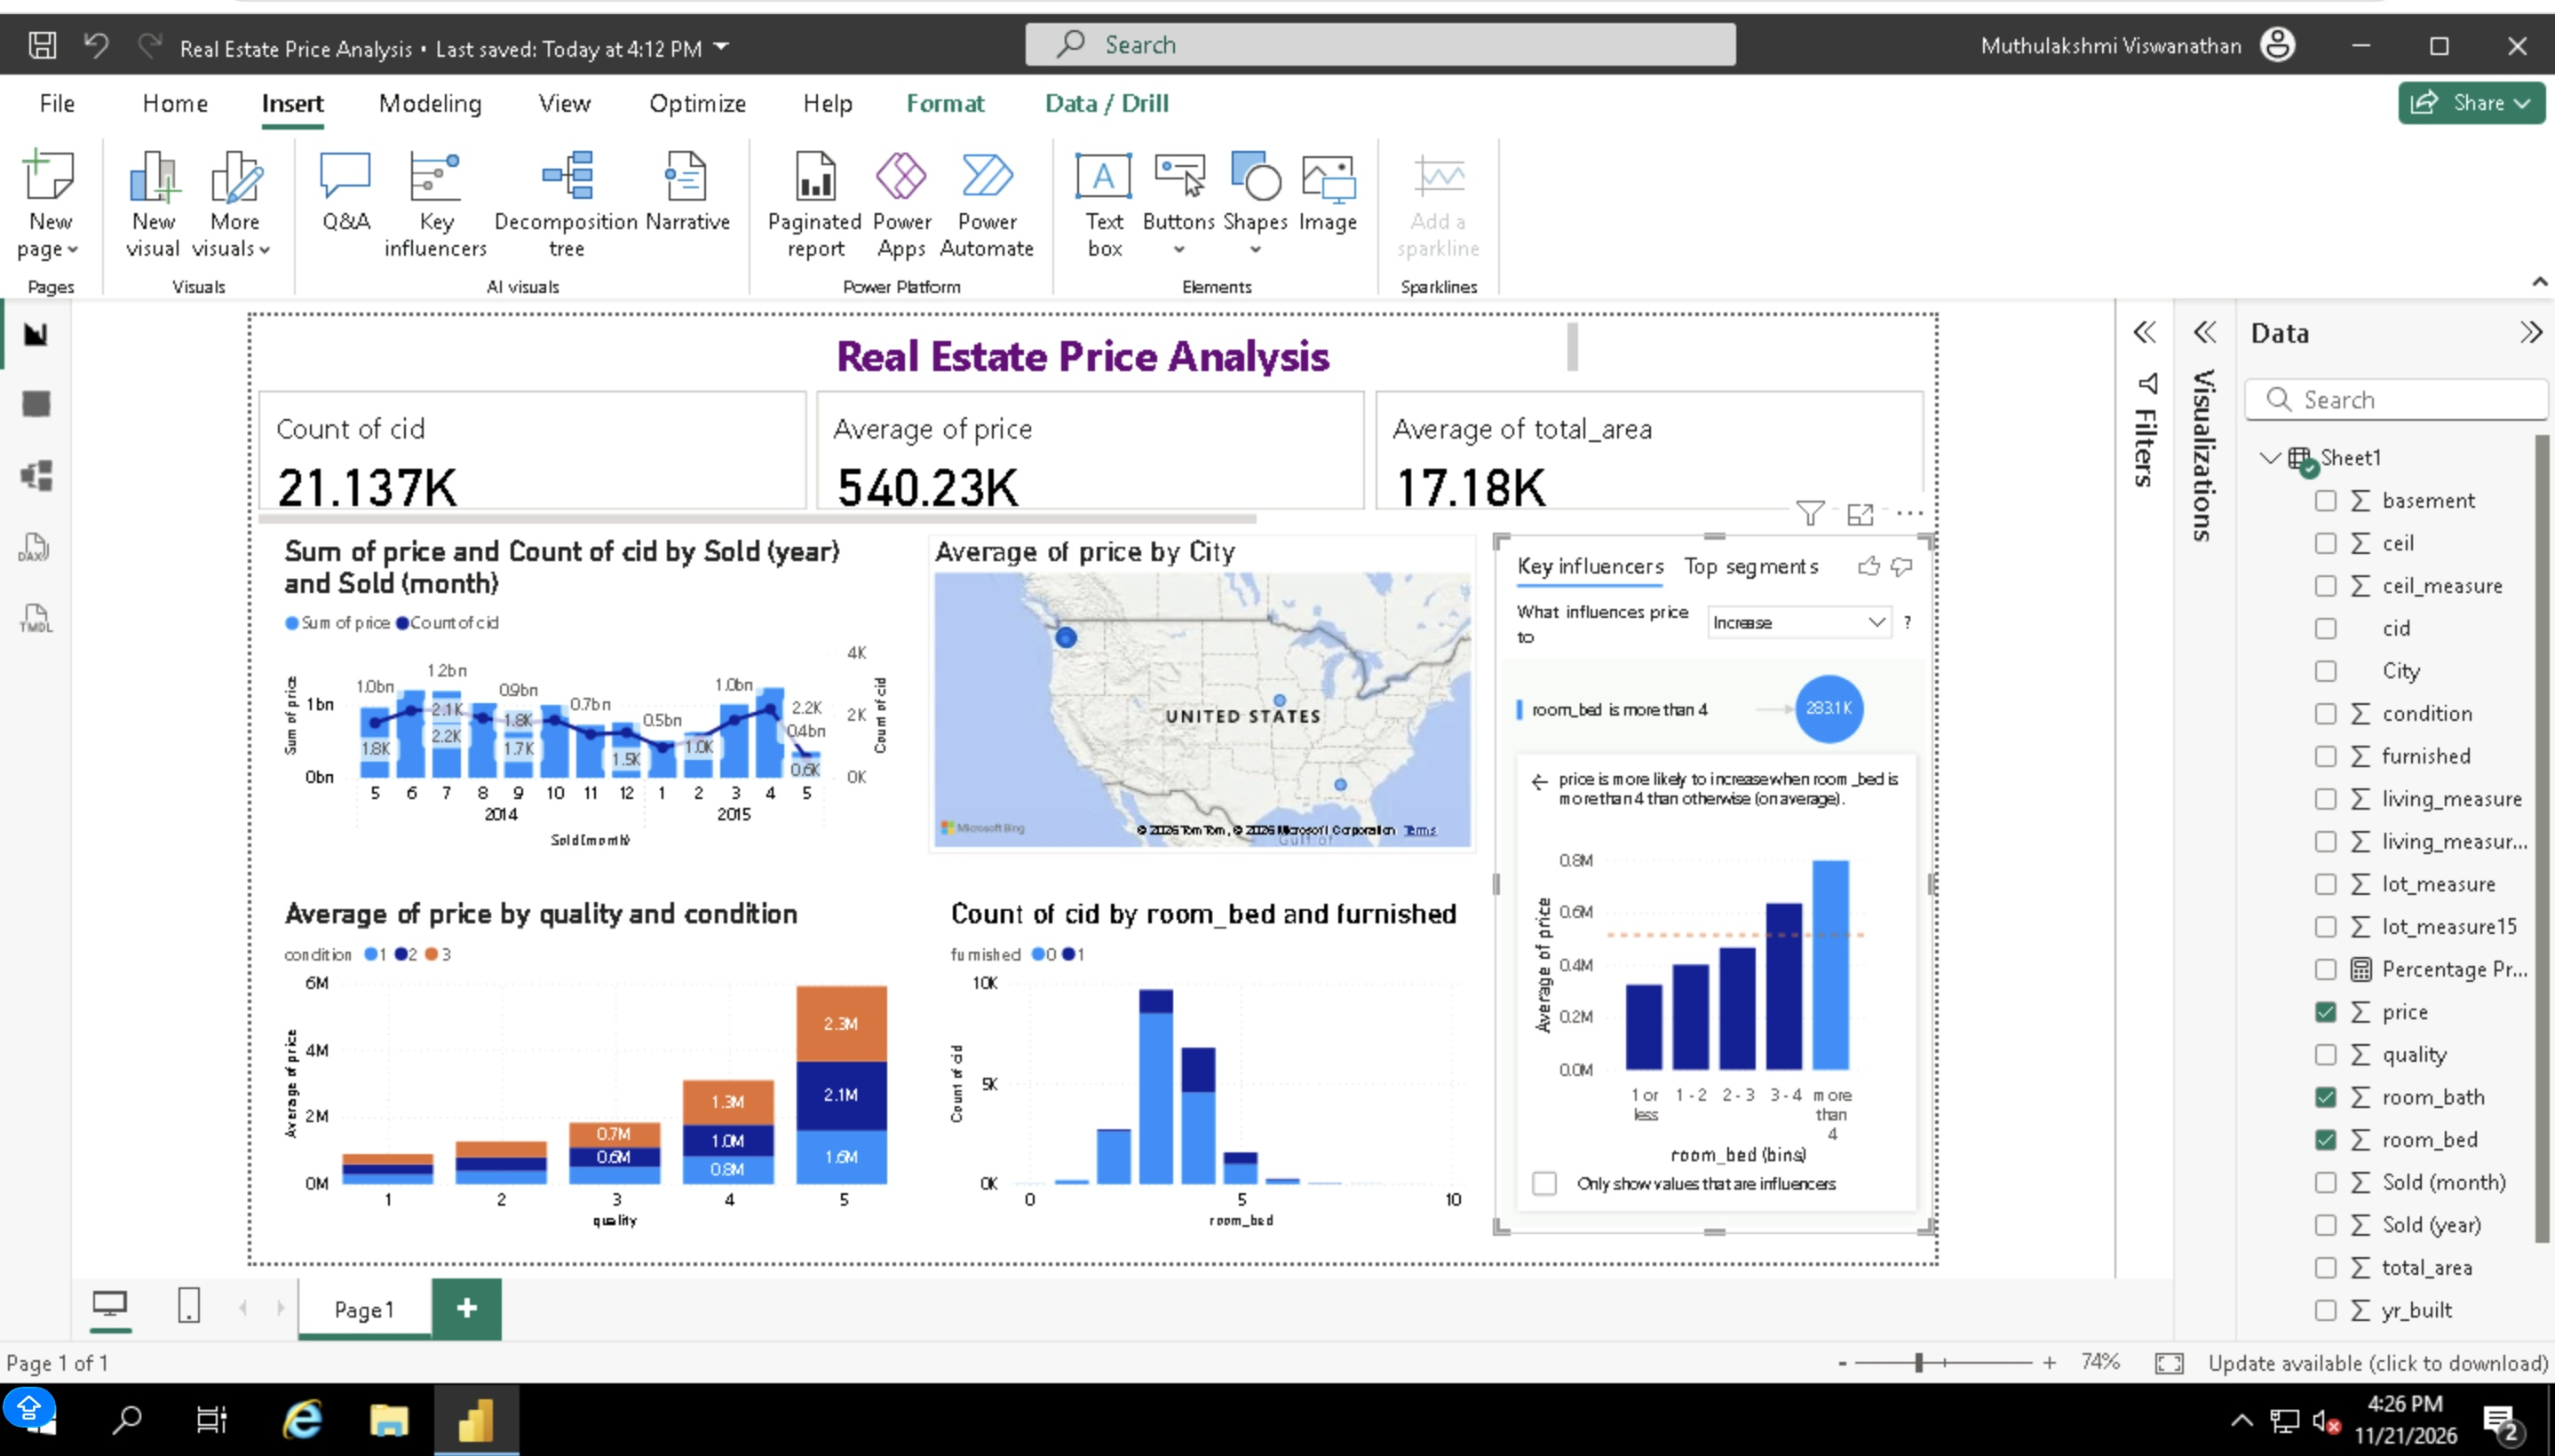

The page's visual inventory and layout, read from the dashboard file:
{"tool":"powerbi","page":{"name":"Page 1","canvas":[1280,720],"ordinal":0},"visuals":[{"type":"lineStackedColumnComboChart","fields":{"Category":["Sheet1.Sold (year)","Sheet1.Sold (month)"],"Y":["Sum(Sheet1.price)"],"Y2":["Count(Sheet1.cid)"]},"box":[20.3,166.2,468.9,243.2],"z":0},{"type":"map","fields":{"Category":["Sheet1.City"],"Size":["Avg(Sheet1.price)"]},"box":[514.9,166.2,417.6,243.2],"z":1},{"type":"columnChart","fields":{"Y":["Avg(Sheet1.price)"],"Category":["Sheet1.quality "],"Series":["Sheet1.condition"]},"box":[20.3,441.9,468.9,256.8],"z":2},{"type":"columnChart","fields":{"Category":["Sheet1.room_bed"],"Y":["CountNonNull(Sheet1.cid)"],"Series":["Sheet1.furnished"]},"box":[527,441.9,405.4,256.8],"z":3},{"type":"keyDriversVisual","fields":{"Target":["Sheet1.price"],"ExplainBy":["Sheet1.room_bed","Sheet1.room_bath"]},"box":[945.9,166.2,333.8,532.4],"z":4},{"type":"cardVisual","fields":{"Data":["Count(Sheet1.cid)","Avg(Sheet1.price)","Avg(Sheet1.total_area)","Avg(Sheet1.quality )","Sheet1.Percentage Properties Furnished"]},"box":[0,51.4,1279.7,114.9],"z":5},{"type":"textbox","box":[428.8,0,502.9,51.6],"z":6}]}

Visuals, with their boxes on the page's 1280x720 design canvas (x1, y1, x2, y2). These are canvas units, not pixel positions in the 2555x1456 screenshot, which may show the page scaled, cropped or inside an application window:
lineStackedColumnComboChart - Sheet1.Sold (year) x Sheet1.Sold (month): detection(20, 166, 489, 409)
map - Sheet1.City x Avg(Sheet1.price): detection(515, 166, 932, 409)
columnChart - Avg(Sheet1.price) x Sheet1.quality : detection(20, 442, 489, 699)
columnChart - Sheet1.room_bed x CountNonNull(Sheet1.cid): detection(527, 442, 932, 699)
keyDriversVisual - Sheet1.price x Sheet1.room_bed: detection(946, 166, 1280, 699)
cardVisual - Count(Sheet1.cid) x Avg(Sheet1.price): detection(0, 51, 1280, 166)
textbox: detection(429, 0, 932, 52)
